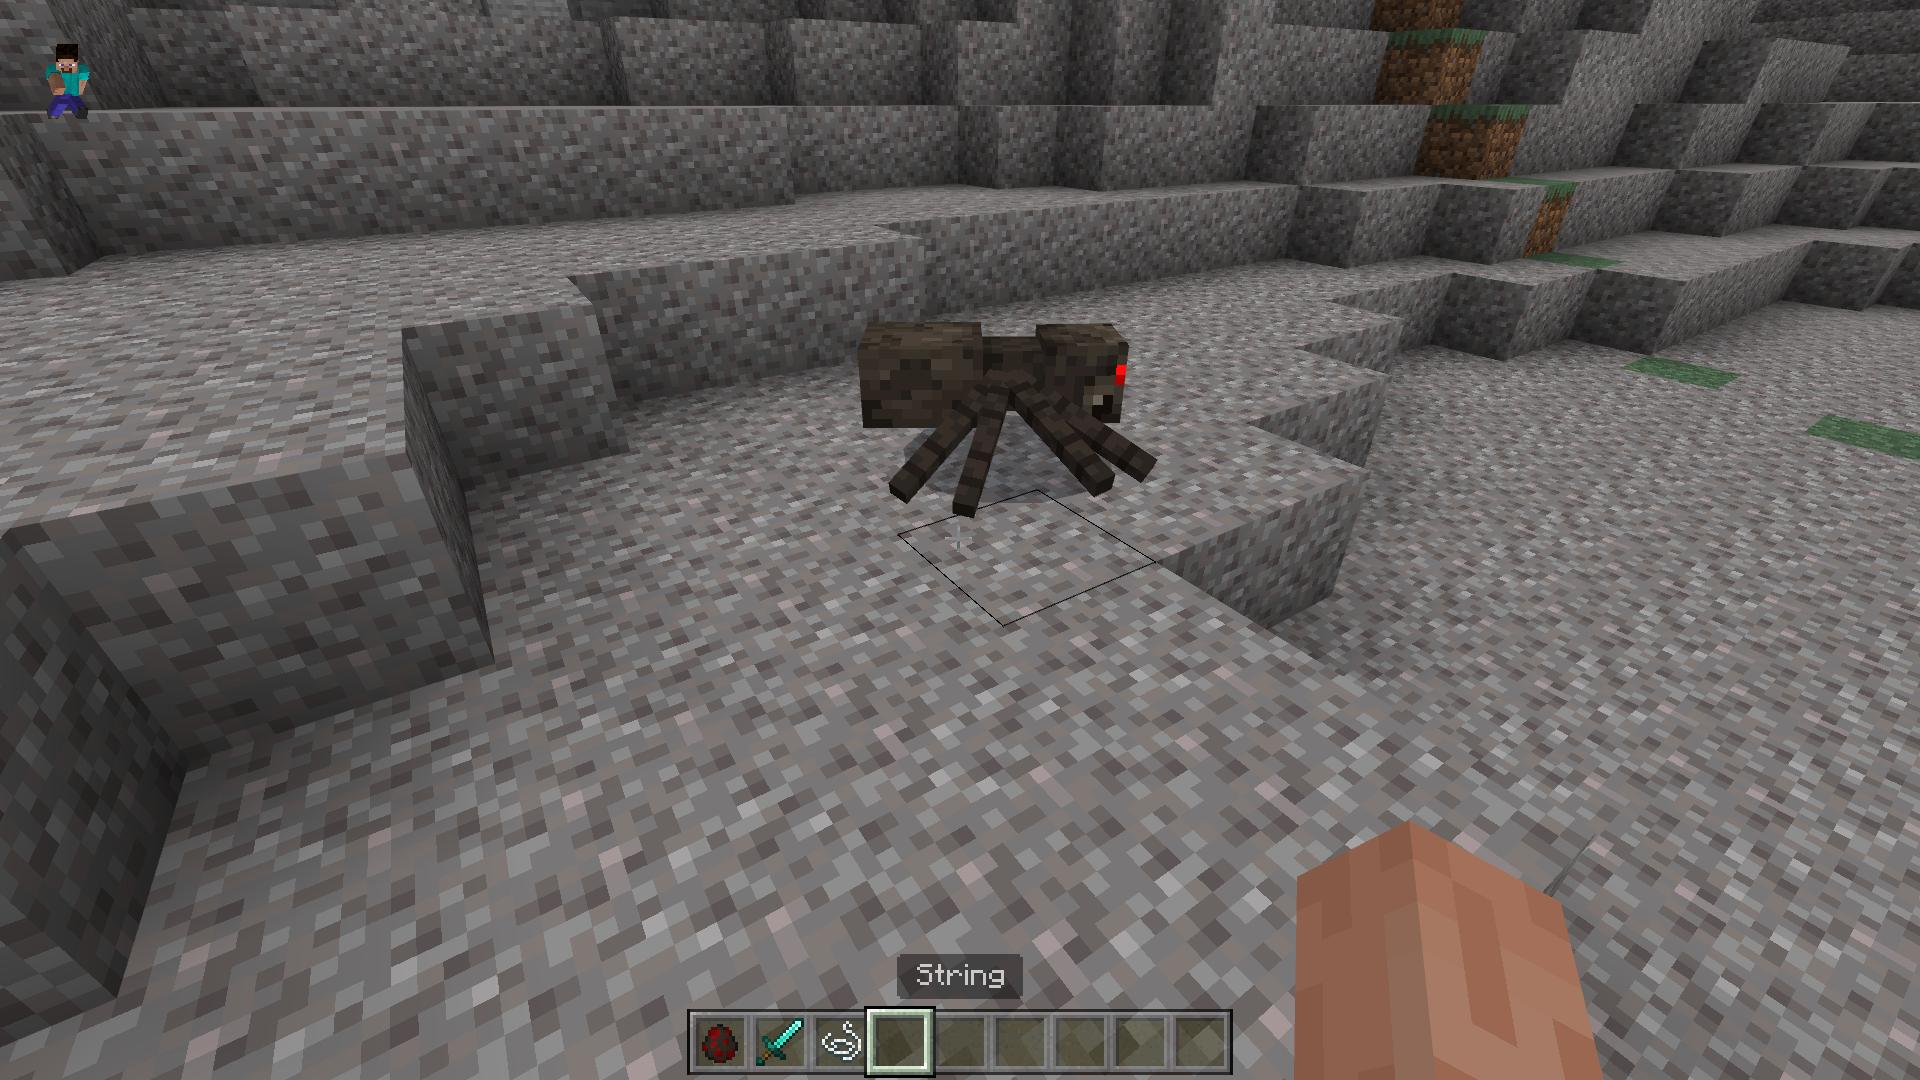spider: (857, 314, 1155, 518)
